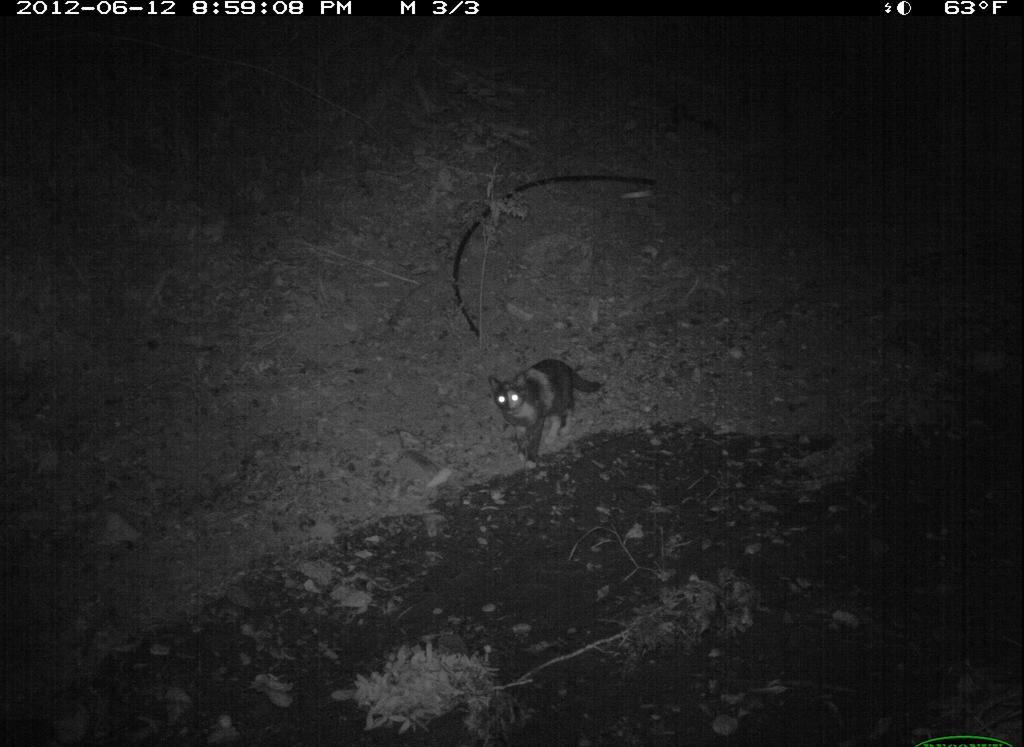cat: (486, 333, 611, 470)
